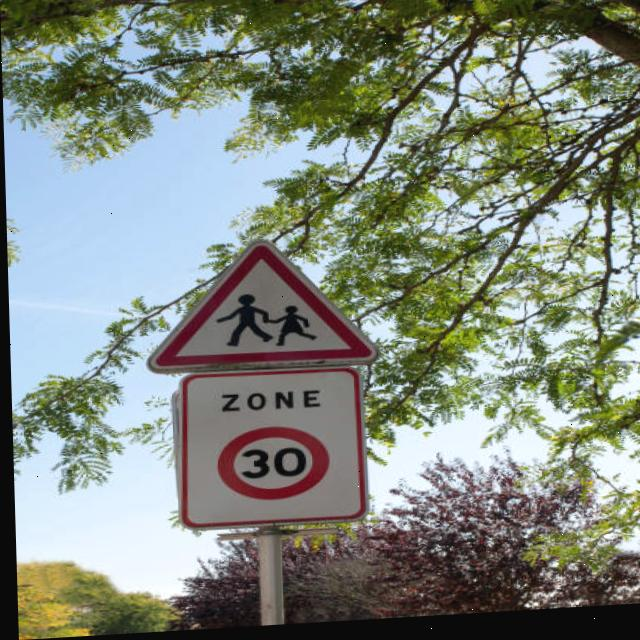Speed limit 30: (209, 423, 343, 515)
